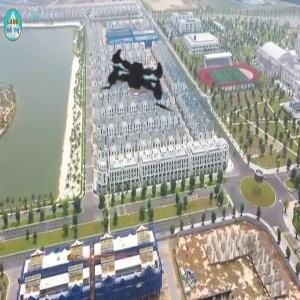drone: (60, 6, 213, 159)
